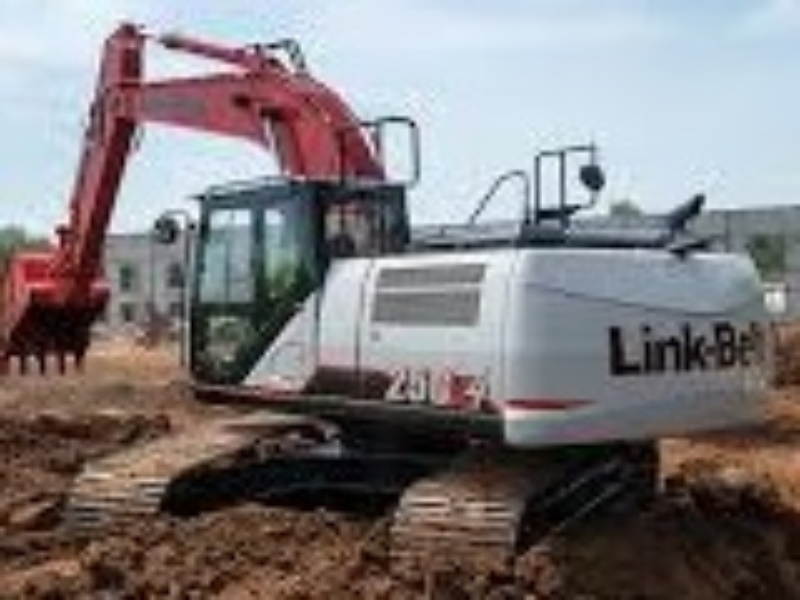wajueji: (76, 94, 796, 600)
